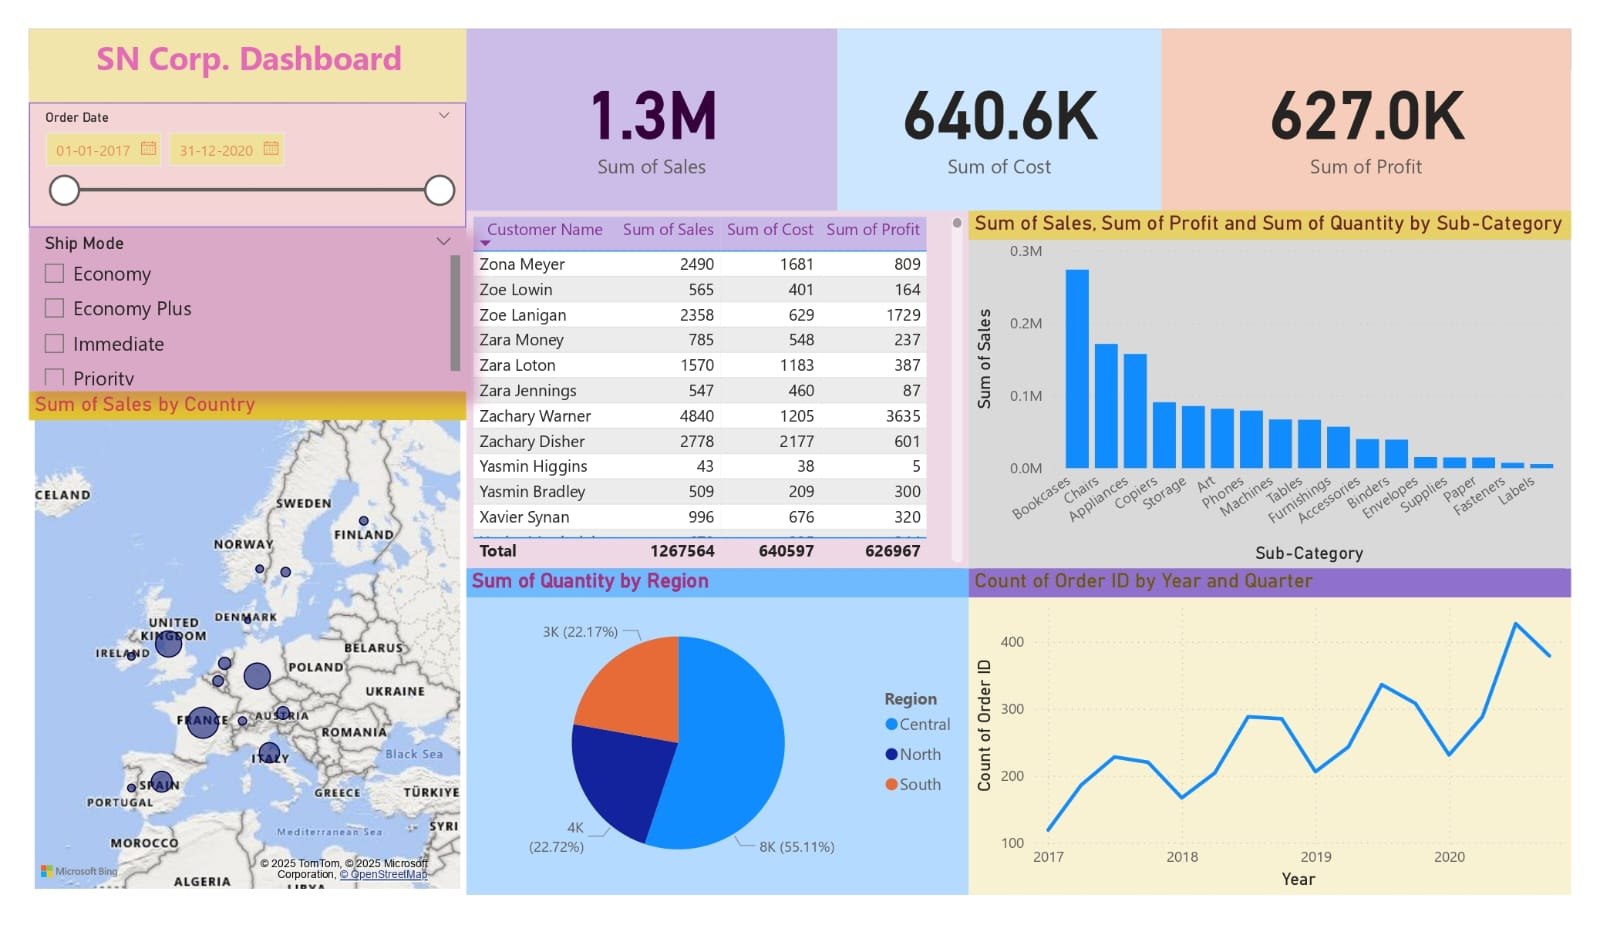

Layout of this report page (visuals, bound fields, positions):
{"tool":"powerbi","page":{"name":"Page 1","canvas":[1280,720],"ordinal":0},"visuals":[{"type":"card","fields":{"Values":["List of Orders.Sales"]},"box":[363.4,0,307.4,151.4],"z":0},{"type":"card","fields":{"Values":["List of Orders.Cost"]},"box":[640.5,0,299.8,165],"z":1000},{"type":"card","fields":{"Values":["List of Orders.Profit"]},"box":[979.7,0,299.8,165],"z":2000},{"type":"clusteredColumnChart","fields":{"Category":["List of Orders.Sub-Category"],"Y":["List of Orders.Sales"]},"box":[779.8,151.4,499.7,296.8],"z":3000},{"type":"pieChart","fields":{"Y":["List of Orders.Quantity"],"Category":["List of Orders.Region"]},"box":[363.4,448.2,416.4,271],"z":4000},{"type":"lineChart","fields":{"Y":["List of Orders.Order ID"],"Category":["List of Orders.Order Date.Variation.Date Hierarchy.Year","List of Orders.Order Date.Variation.Date Hierarchy.Quarter"]},"box":[779.8,448.2,499.7,271],"z":5000},{"type":"tableEx","fields":{"Values":["List of Orders.Customer Name","List of Orders.Sales","List of Orders.Cost","List of Orders.Profit"]},"box":[363.4,151.4,416.4,296.8],"z":6000},{"type":"map","fields":{"Category":["List of Orders.Country"],"Size":["List of Orders.Sales"]},"box":[0,301.3,363.4,417.9],"z":7000},{"type":"textbox","box":[0,0,363.4,60.6],"z":8000},{"type":"slicer","fields":{"Values":["List of Orders.Ship Mode"]},"box":[0,165,363.4,136.3],"z":9000},{"type":"slicer","fields":{"Values":["List of Orders.Order Date"]},"box":[0,60.6,363.4,104.5],"z":10000}]}

Visuals, with their boxes on the page's 1280x720 design canvas (x1, y1, x2, y2). These are canvas units, not pixel positions in the 1600x925 screenshot, which may show the page scaled, cropped or inside an application window:
card - List of Orders.Sales: [363,0,671,151]
card - List of Orders.Cost: [640,0,940,165]
card - List of Orders.Profit: [980,0,1280,165]
clusteredColumnChart - List of Orders.Sub-Category x List of Orders.Sales: [780,151,1280,448]
pieChart - List of Orders.Quantity x List of Orders.Region: [363,448,780,719]
lineChart - List of Orders.Order ID x List of Orders.Order Date.Variation.Date Hierarchy.Year: [780,448,1280,719]
tableEx - List of Orders.Customer Name x List of Orders.Sales: [363,151,780,448]
map - List of Orders.Country x List of Orders.Sales: [0,301,363,719]
textbox: [0,0,363,61]
slicer - List of Orders.Ship Mode: [0,165,363,301]
slicer - List of Orders.Order Date: [0,61,363,165]
